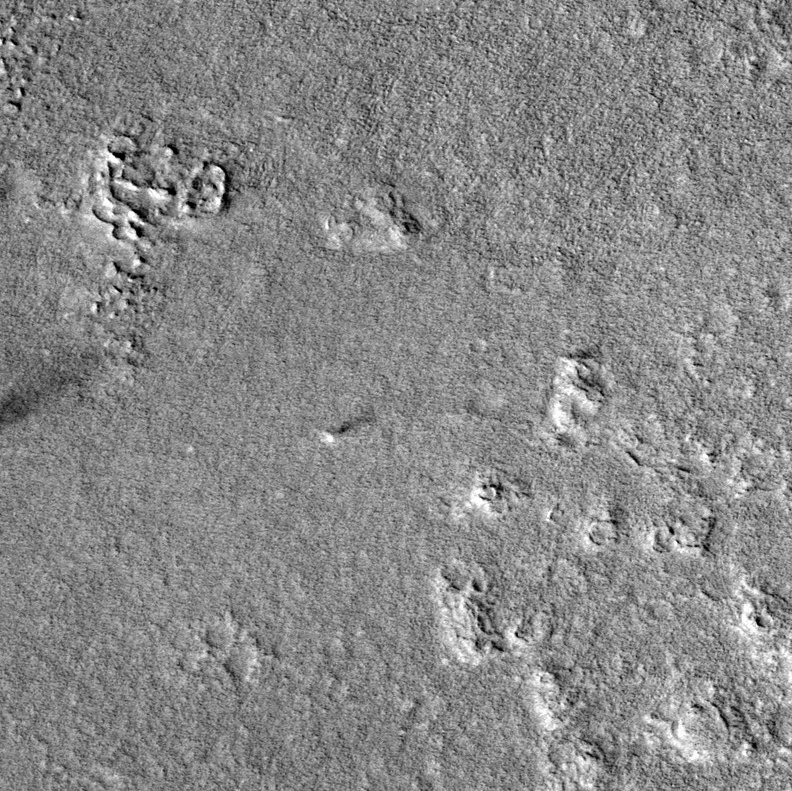dust_devil: (321, 410, 377, 443)
